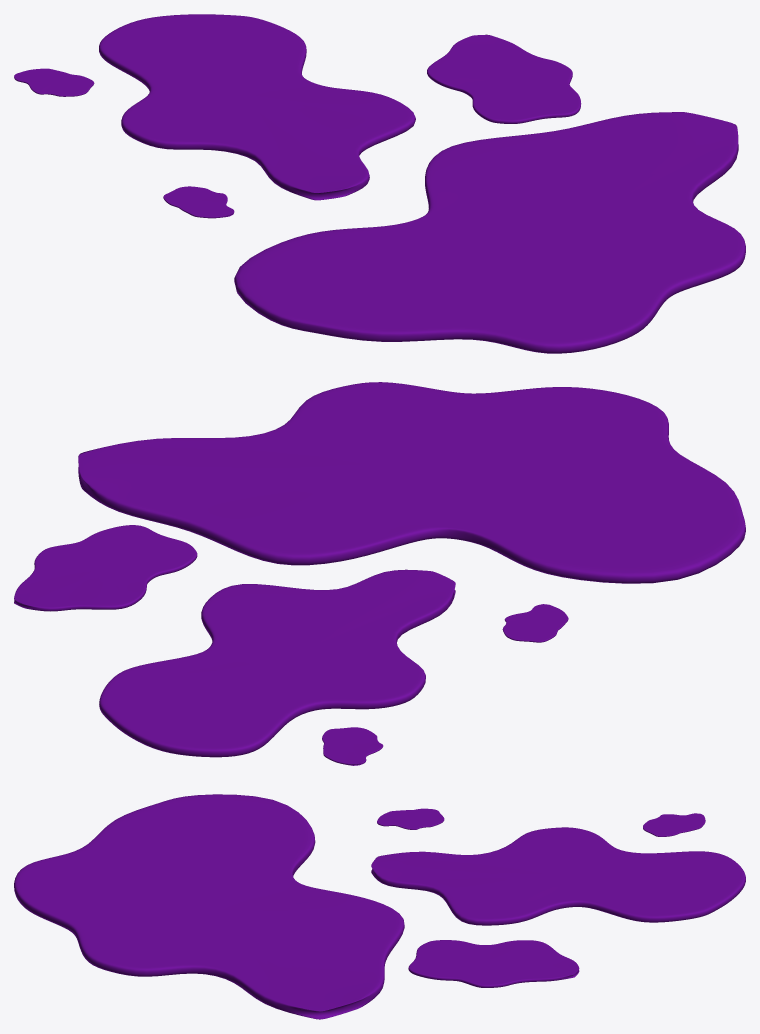
The model's file is Puddles_of_Pollution.fbx.
3 renders of one model, top to bottom at view 1: azimuth 30°, elevation 25°; view 2: azimuth 150°, elevation 25°; view 3: azimuth 270°, elevation 25°, orthographic. The views are drawn at different scales.
Visible parts, largest first — view 1: Puddle.002, Puddle, Puddle.001, Puddle.004, Puddle.003; view 2: Puddle.002, Puddle, Puddle.001, Puddle.003, Puddle.004; view 3: Puddle.002, Puddle, Puddle.001, Puddle.004, Puddle.003.
Part boxes in pixels (x1,y1,x2,y2): Puddle.002: (234,112,745,353); Puddle: (99,14,415,200); Puddle.001: (427,34,581,123); Puddle.004: (14,68,94,96); Puddle.003: (163,186,234,218); Puddle.002: (78,382,745,583); Puddle: (99,569,455,757); Puddle.001: (14,525,197,611); Puddle.003: (502,604,568,642); Puddle.004: (322,727,383,765); Puddle.002: (14,794,404,1019); Puddle: (371,827,745,925); Puddle.001: (408,940,579,987); Puddle.004: (643,813,705,836); Puddle.003: (377,808,444,829).
Size of the model in its own units: 462 by 9.45 by 653.
